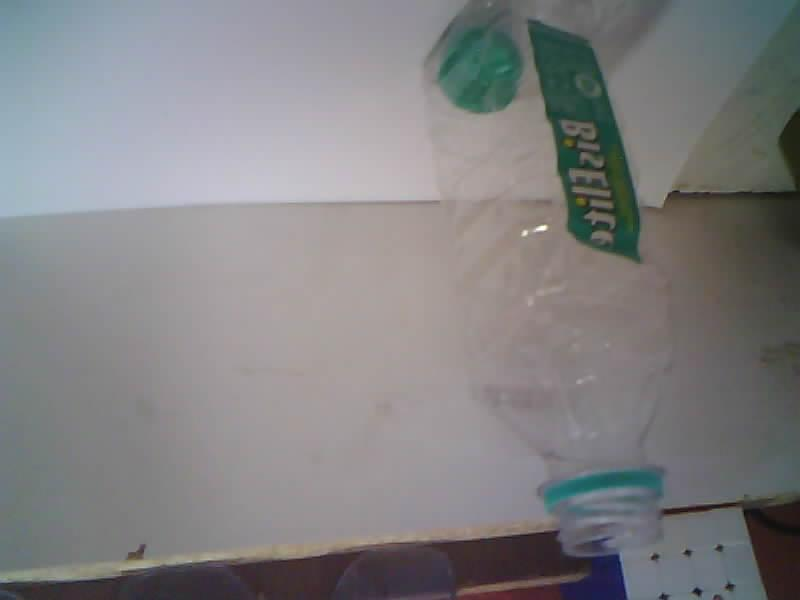non-biodegradable: (424, 0, 672, 556)
